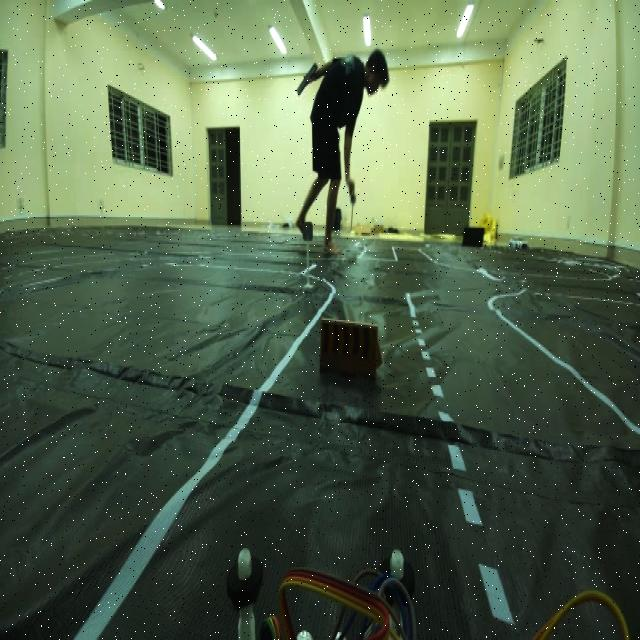roadblock: (315, 308, 392, 402)
